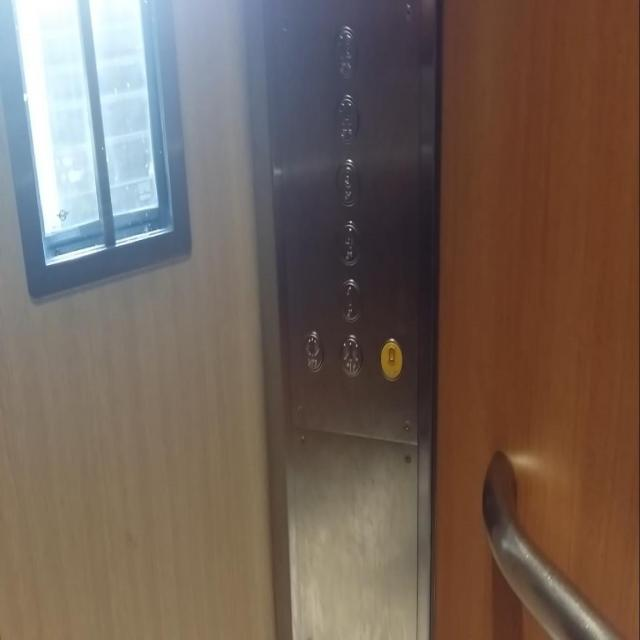1: (336, 278, 362, 322)
14: (332, 92, 360, 146)
4: (336, 219, 361, 268)
9: (334, 157, 360, 209)
alarm: (378, 336, 404, 382)
blur: (331, 22, 361, 82)
close: (338, 332, 362, 378)
open: (300, 330, 325, 373)
